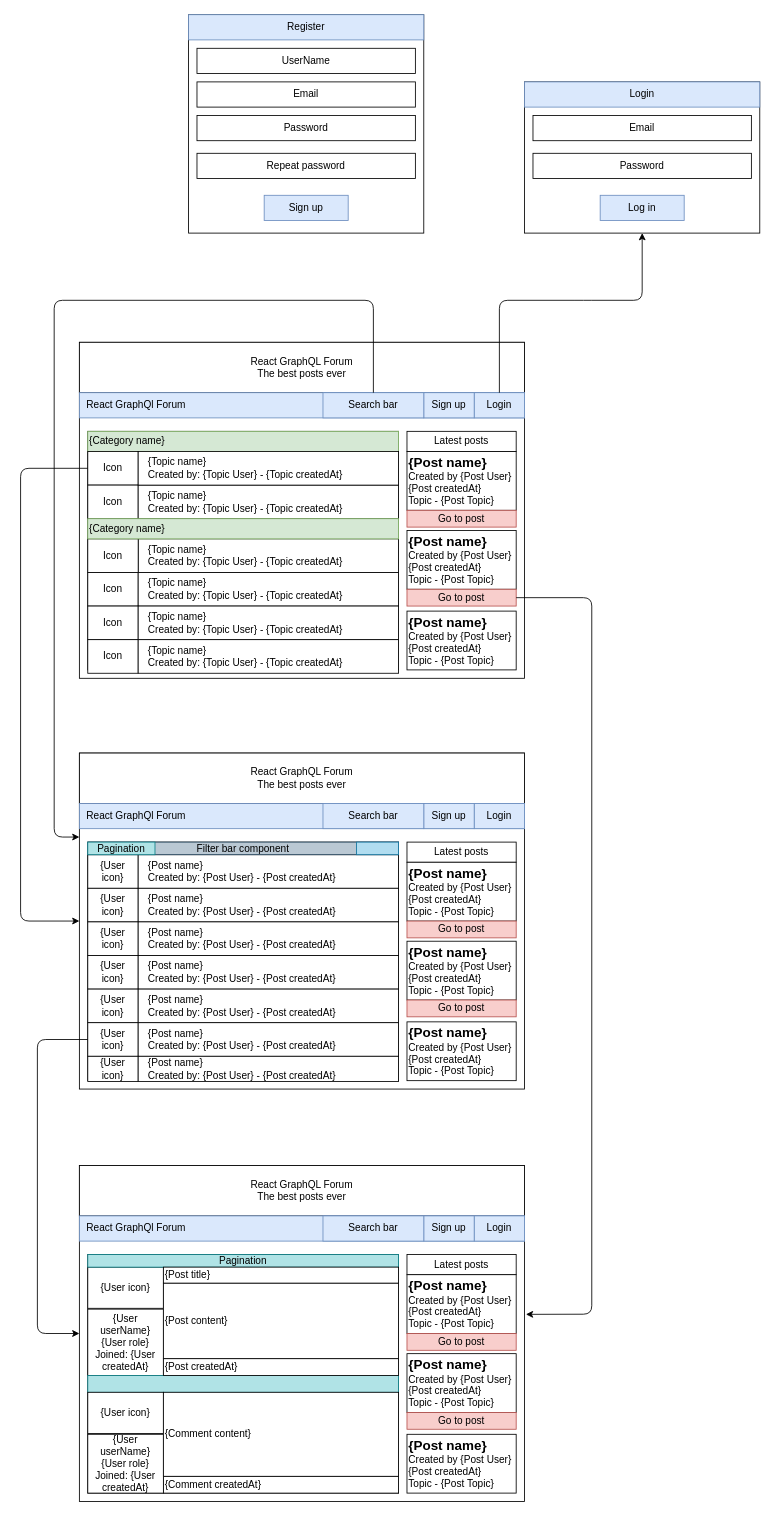
The diagram is 774 pixels wide and 1516 high, and some of its shapes have lost their labels. Each missing label, with the centre of its shape:
"Comment" goes at point (243, 1383).
"Filters" goes at point (377, 848).
